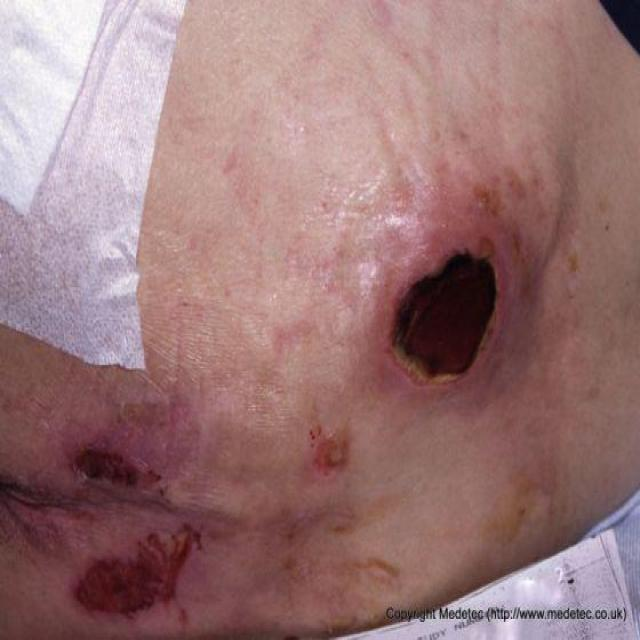Unstageable: (394, 255, 495, 377)
stage-2: (75, 526, 200, 614), (75, 447, 139, 486)
